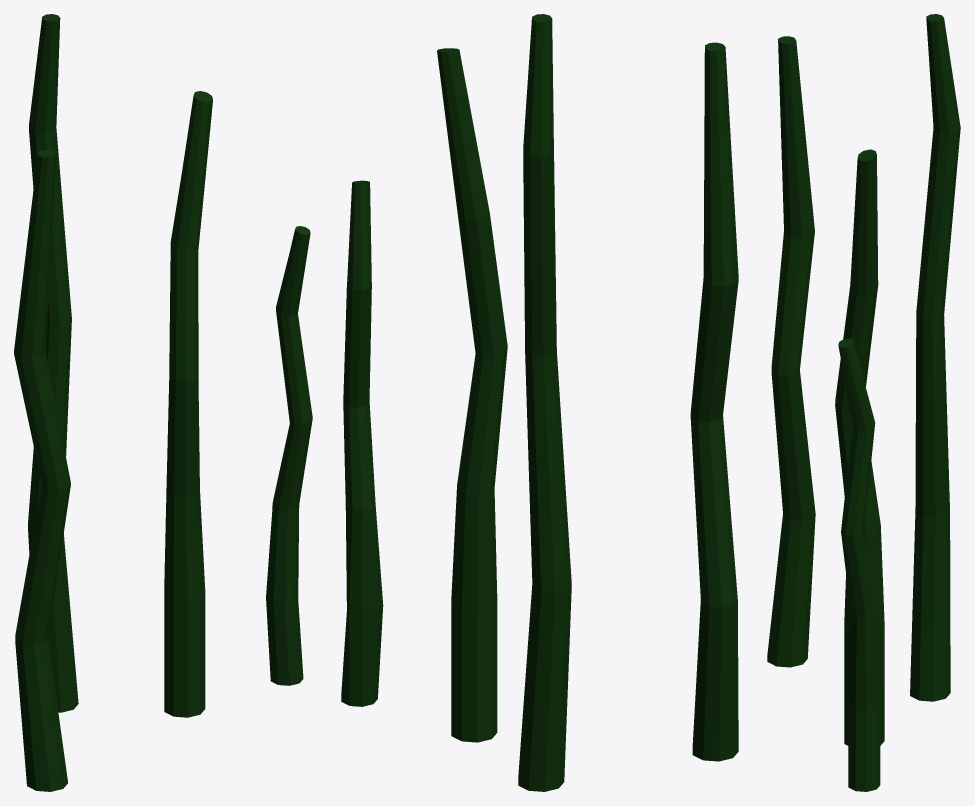
File: seaweed.glb
The picture shows the model from 3 angles, left to right: view 1: azimuth 30°, elevation 25°; view 2: azimuth 150°, elevation 25°; view 3: azimuth 270°, elevation 25°; orthographic projection. The views are drawn at different scales.
Parts seen in each view (by area): view 1: Cylinder.002, Cylinder.001, Cylinder.003, Cylinder; view 2: Cylinder, Cylinder.002, Cylinder.001, Cylinder.003; view 3: Cylinder, Cylinder.001, Cylinder.003, Cylinder.002.
Part boxes in pixels (x1,y1,x2,y2): Cylinder.002: [164, 91, 212, 717]; Cylinder.001: [14, 149, 70, 791]; Cylinder.003: [266, 226, 312, 685]; Cylinder: [28, 14, 78, 712]; Cylinder: [518, 14, 571, 791]; Cylinder.002: [437, 48, 507, 742]; Cylinder.001: [690, 42, 738, 761]; Cylinder.003: [341, 180, 383, 706]; Cylinder: [910, 14, 960, 701]; Cylinder.001: [767, 36, 815, 667]; Cylinder.003: [838, 338, 880, 791]; Cylinder.002: [835, 149, 884, 745].
Size of the model in its own units: 1.75 by 3.59 by 0.9264.
